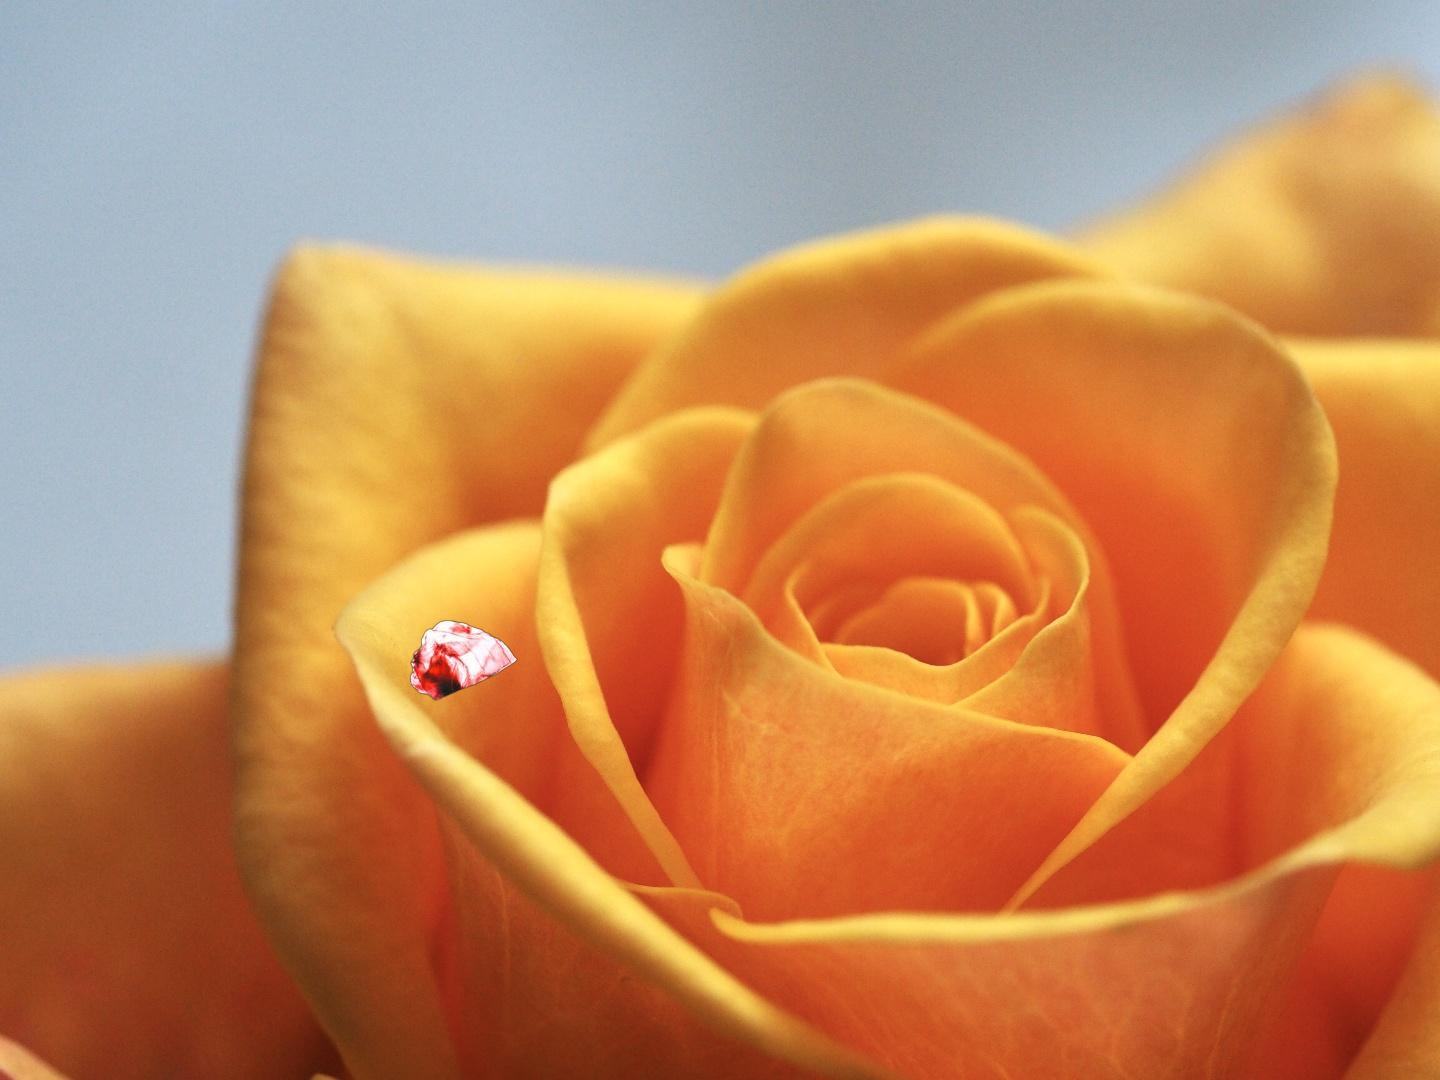plastic-bag: (407, 618, 518, 702)
